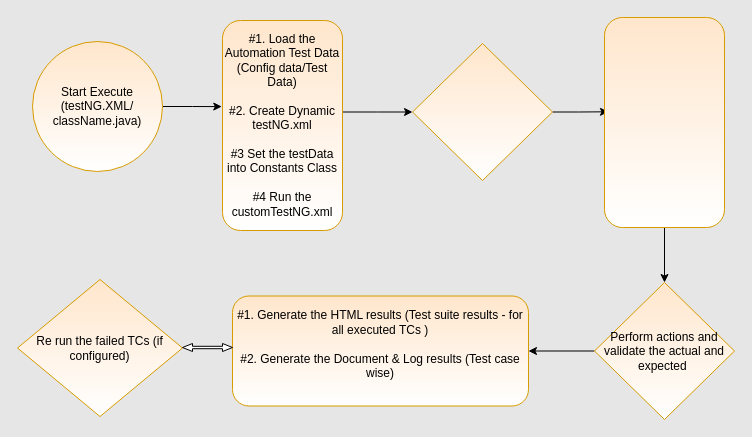
Some shapes in this 752 by 437 pixel diagram are drawn without their labels. Here are the shapes that lost their labels. From the top down, the centre of each, then its label:
At point (482, 111): "Design the execution instances".
At point (664, 122): "# Execution will start based on setup".
